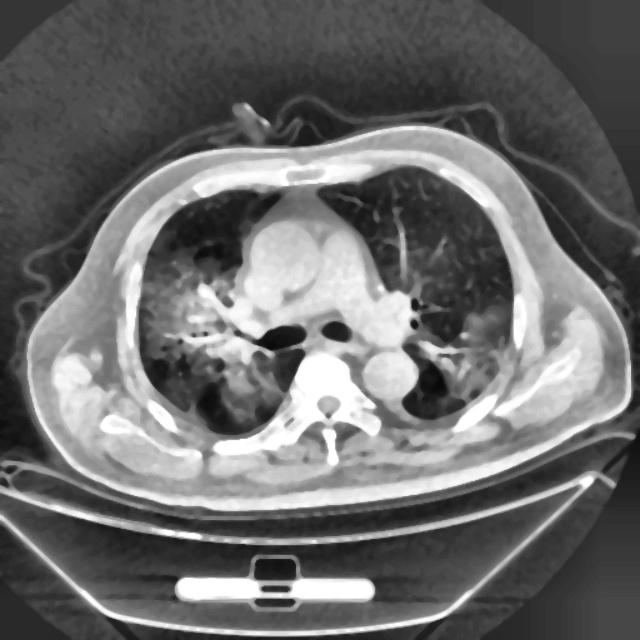covid: (20, 108, 633, 518)
